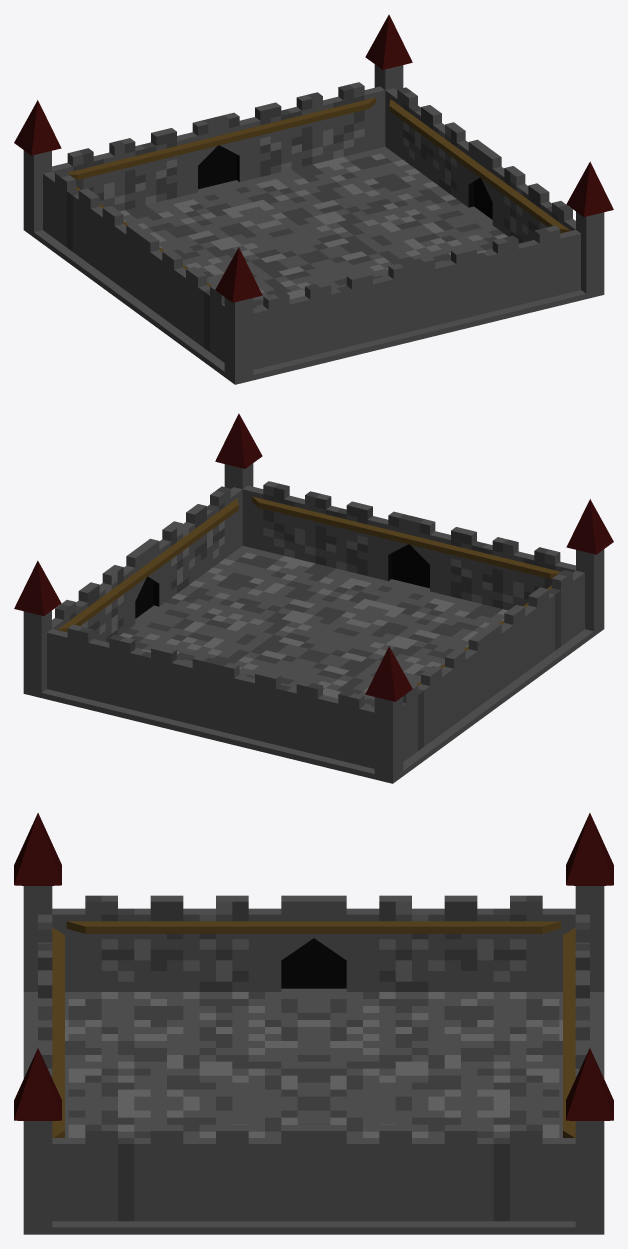
Rendered from Arena.fbx.
The picture shows the model from 3 angles, top to bottom: view 1: azimuth 30°, elevation 25°; view 2: azimuth 150°, elevation 25°; view 3: azimuth 270°, elevation 25°; orthographic projection. The views are drawn at different scales.
Parts seen in each view (by area): view 1: Castle; view 2: Castle; view 3: Castle.
Boxes of the visible parts, <box> form: Castle: <box>14,14,613,384</box>; Castle: <box>14,413,613,783</box>; Castle: <box>14,813,613,1234</box>.
Size of the model in its own units: 15017 by 4961 by 14909.
